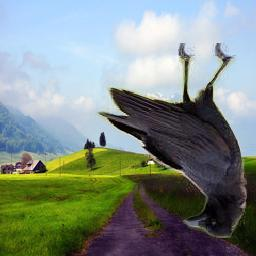Crow: (95, 44, 247, 239)
